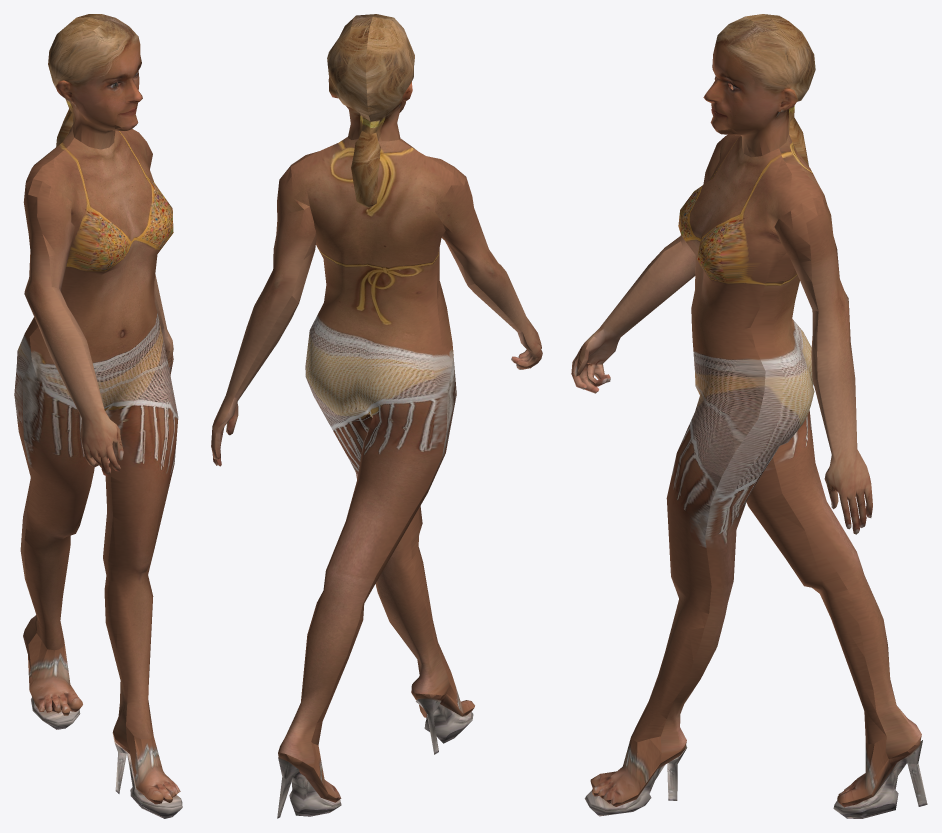
The model's file is woman2.FBX.
The picture shows the model from 3 angles, left to right: view 1: azimuth 30°, elevation 25°; view 2: azimuth 150°, elevation 25°; view 3: azimuth 270°, elevation 25°; orthographic projection. The views are drawn at different scales.
Parts seen in each view (by area): view 1: SWom0002-W; view 2: SWom0002-W; view 3: SWom0002-W.
Boxes of the visible parts, box(x1,y1,x2,y2) form: SWom0002-W: box(14, 14, 182, 818); SWom0002-W: box(211, 14, 542, 818); SWom0002-W: box(571, 14, 927, 818).
Size of the model in its own units: 0.5156 by 1.75 by 0.7101.
